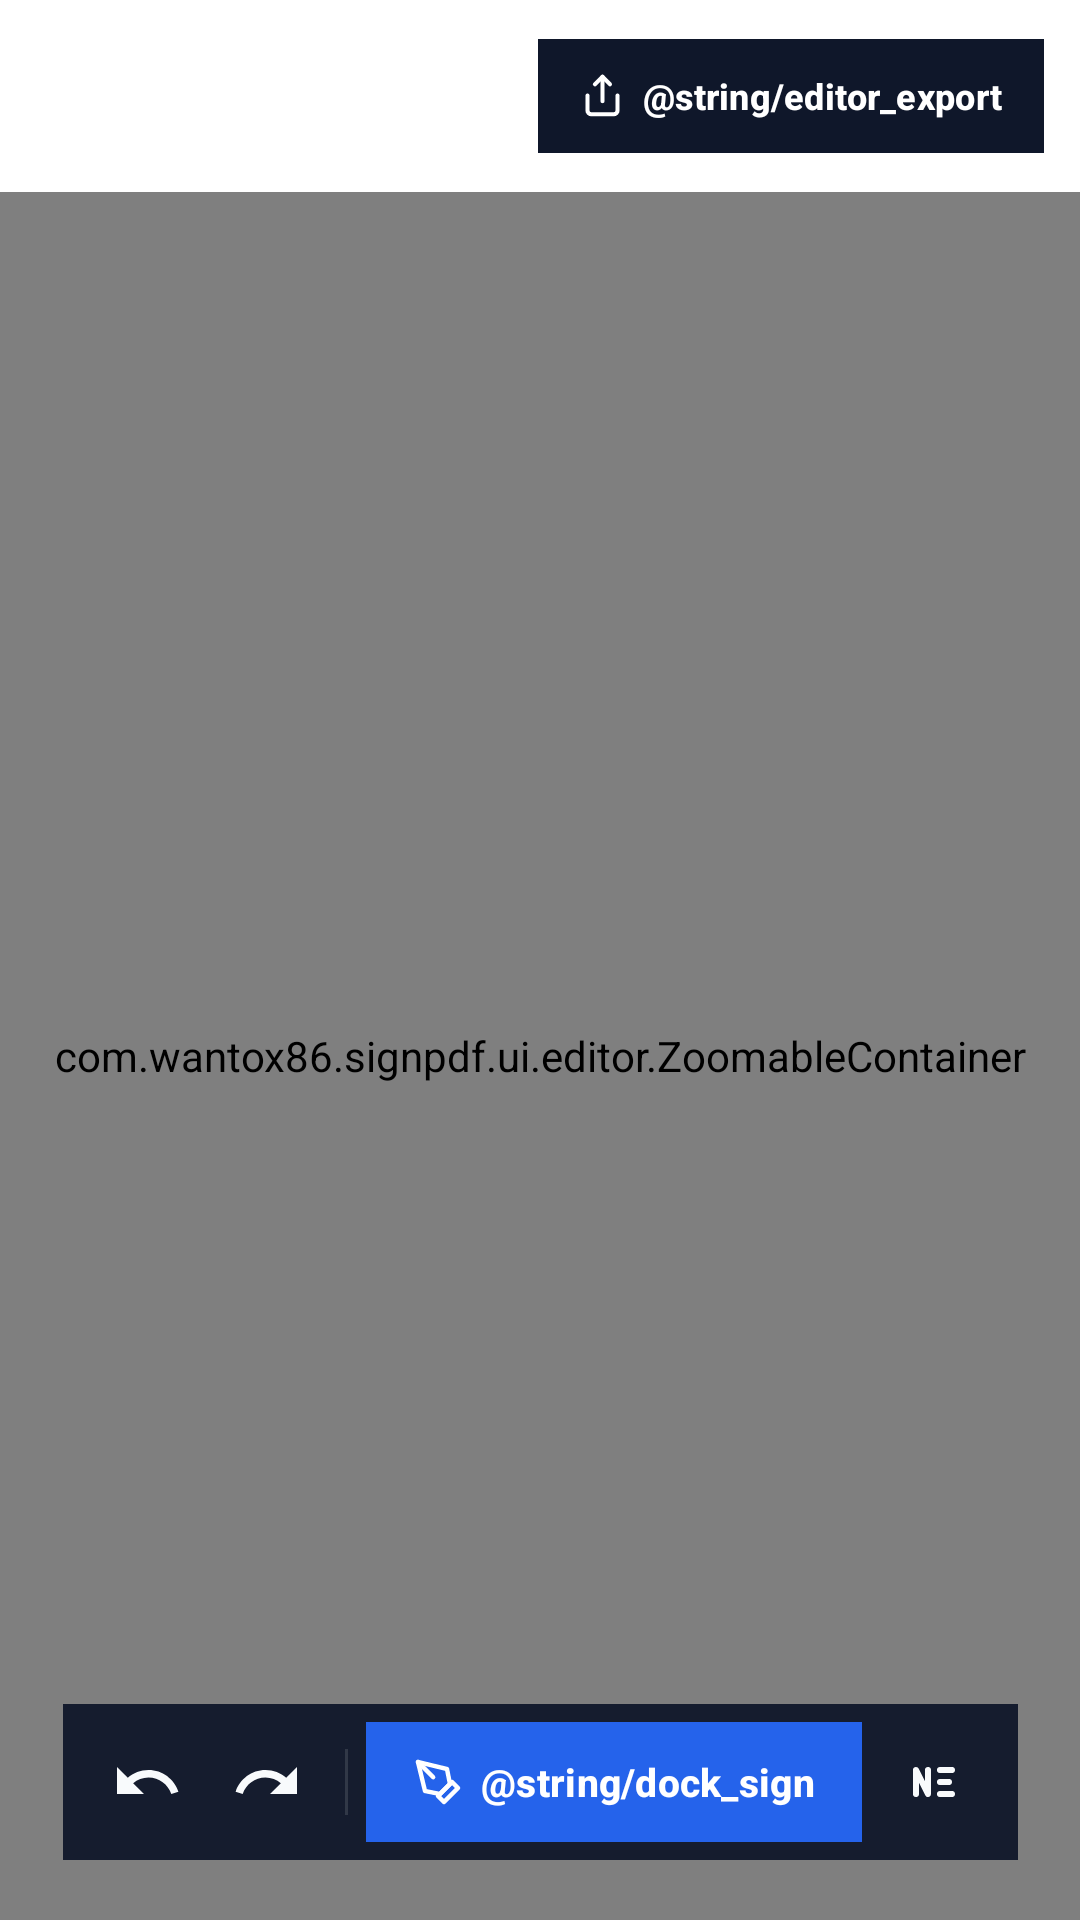

Point at icon controls on the screen. Image size 1080px×1920px, points as point (x, y).
Add Initial: point (934, 1782)
Redo: point (266, 1780)
Undo: point (148, 1780)
